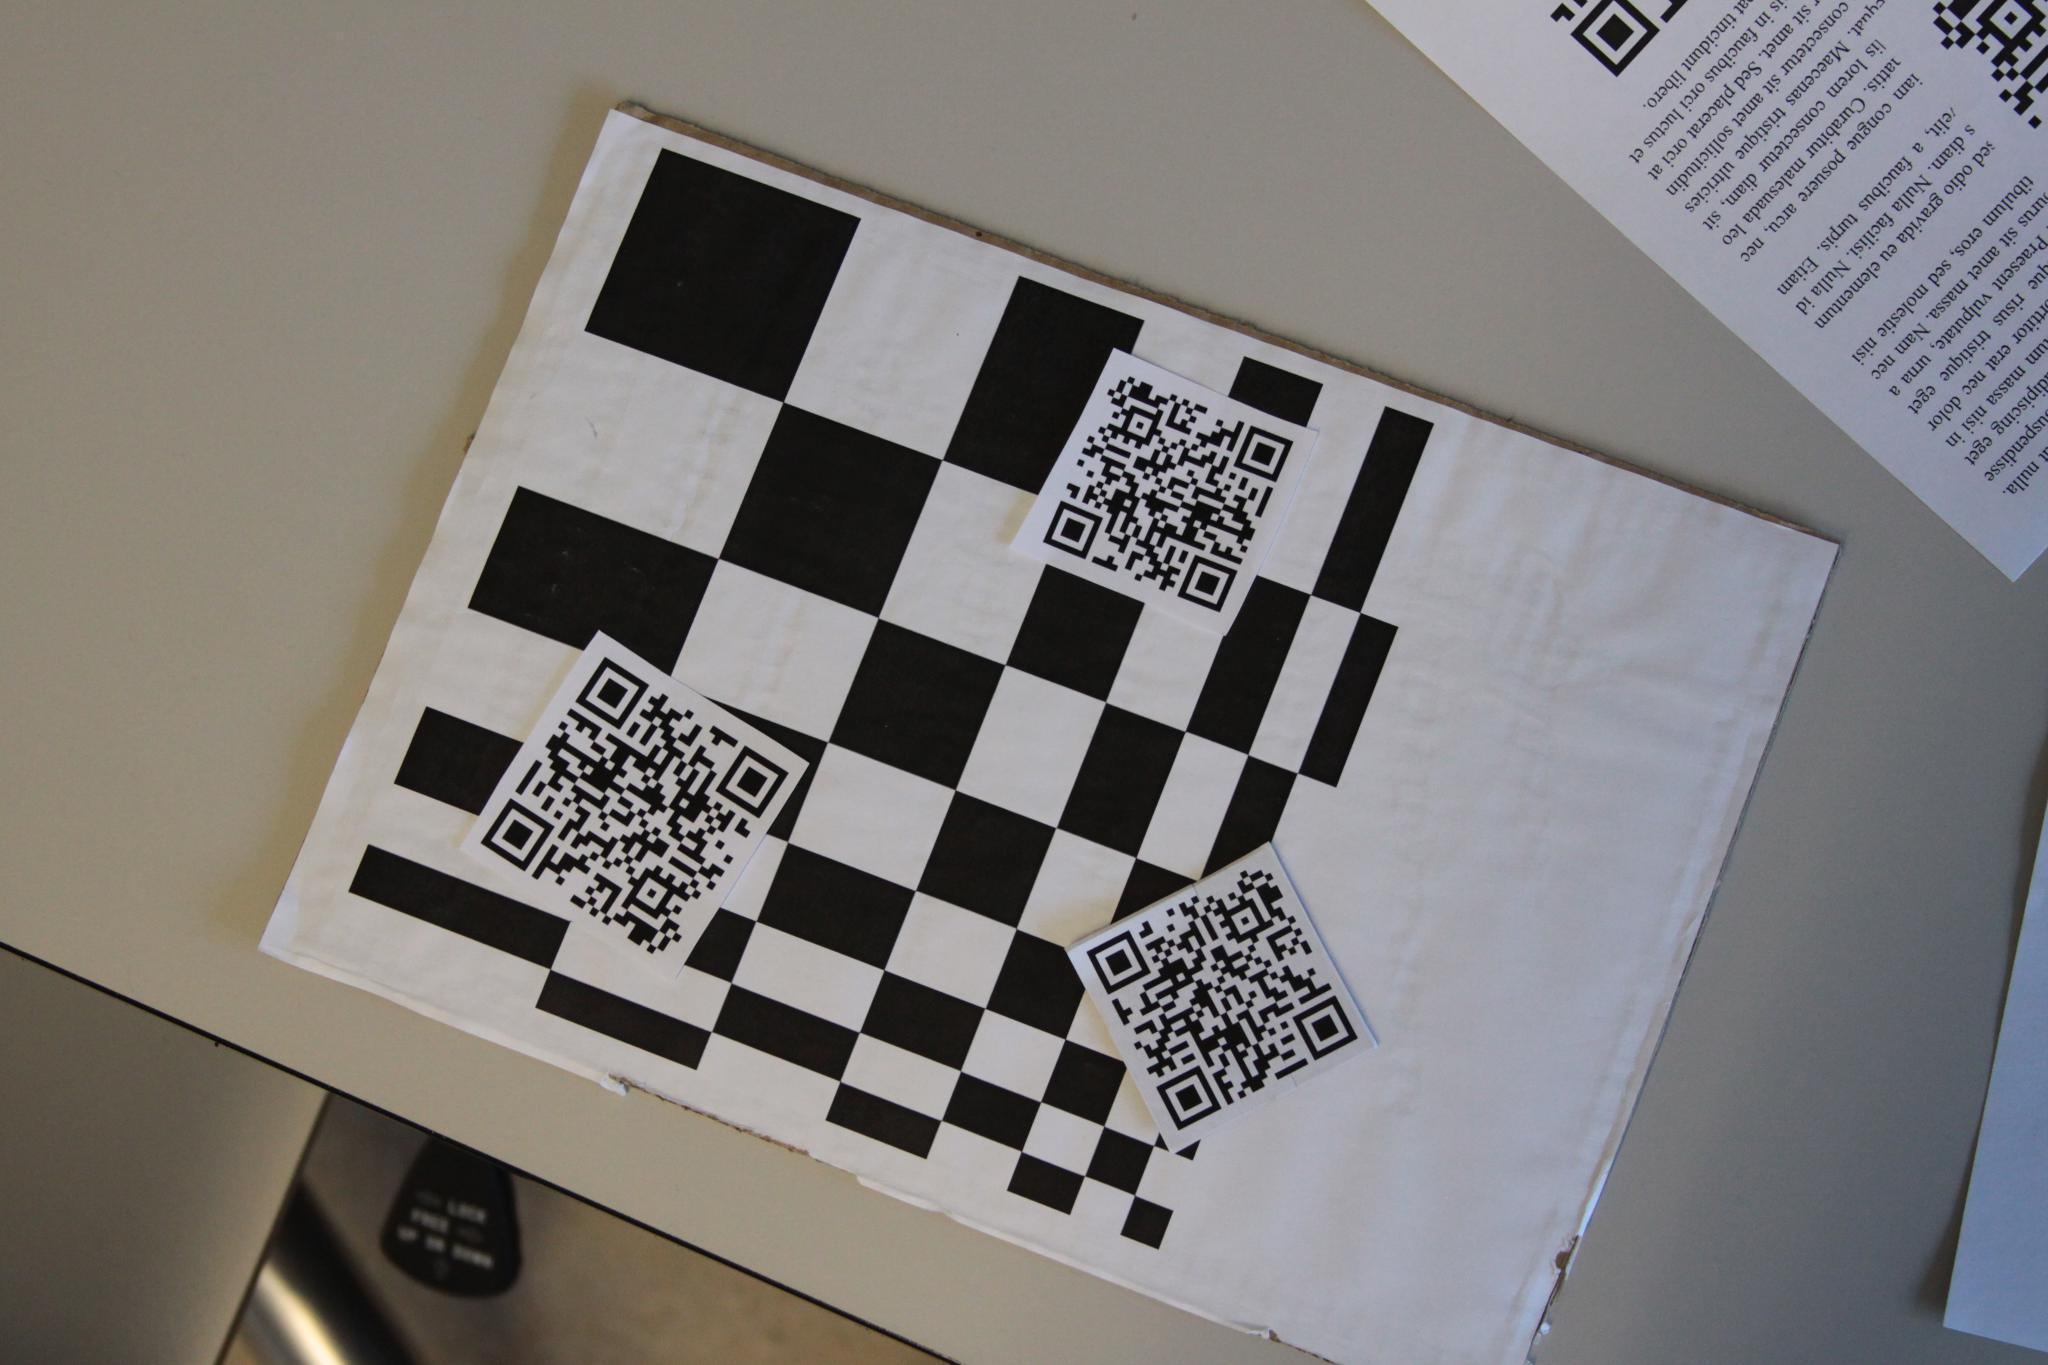qr_code: (481, 658, 789, 964), (1084, 864, 1358, 1130), (1042, 375, 1294, 614), (1932, 0, 2048, 131), (1536, 0, 1690, 76)
